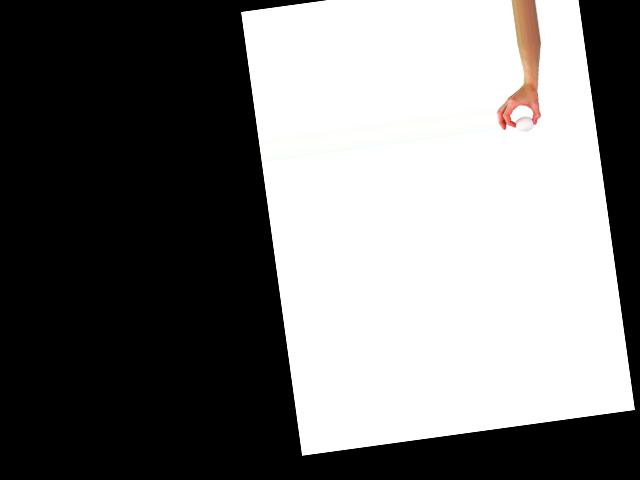egg: (514, 115, 534, 132)
